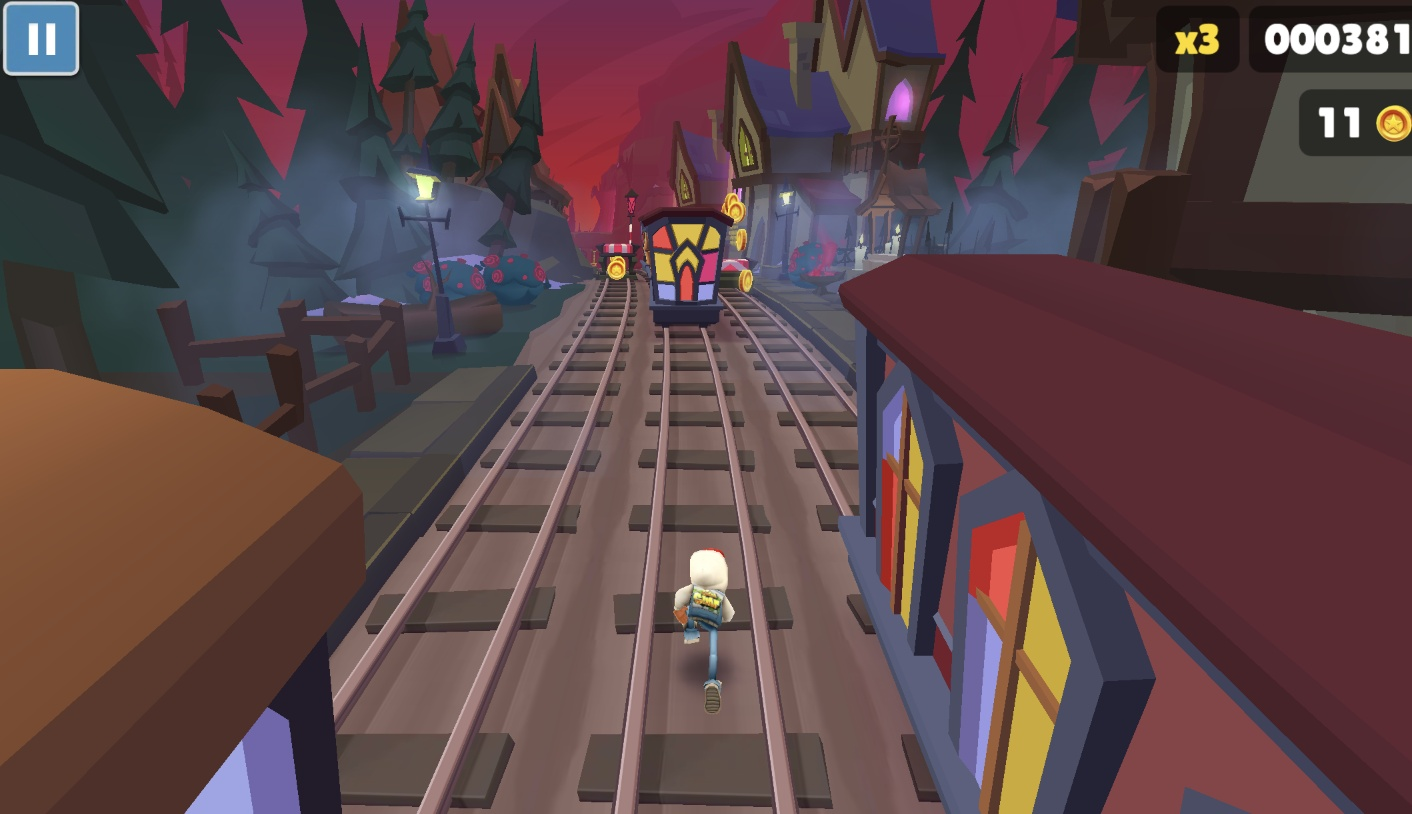ground_barrier: (601, 243, 638, 284), (720, 258, 748, 289)
train: (840, 254, 1412, 814), (0, 370, 368, 814), (637, 207, 733, 330)
